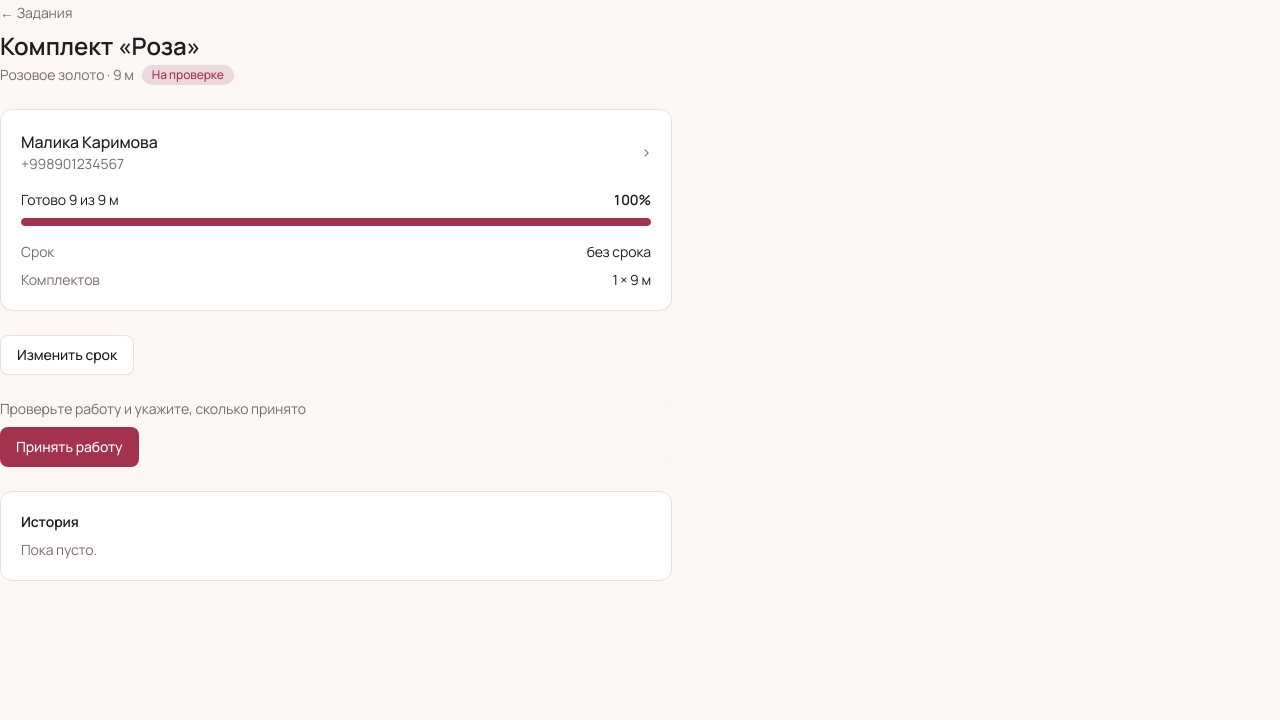
it: assignment detail (M3 §17): exactly one contextual action per status › UNDER_REVIEW opens the acceptance dialog with a live-valid submit button
The image size is (1280, 720).
What coordinates should you click on to do the following:
click the button "Принять работу"
I would click on:
 (69, 447)
Its box is [0,427,139,467].
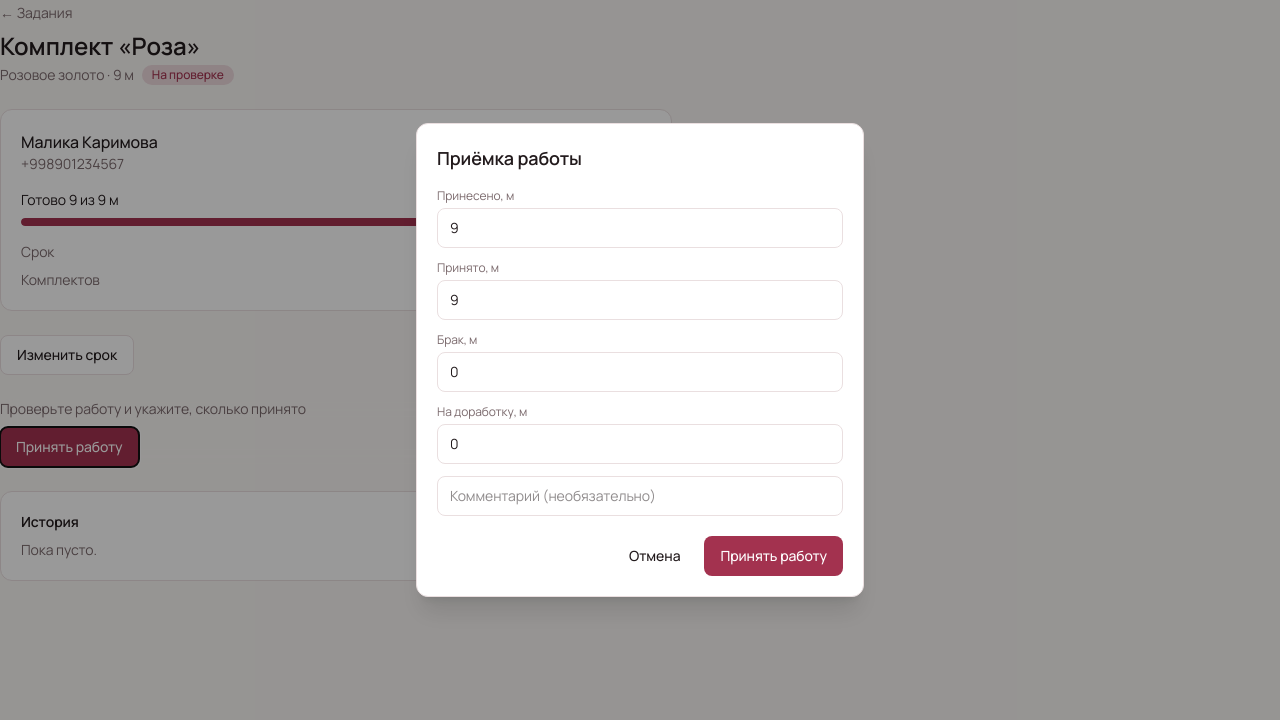
Now the heading "Приёмка работы" is shown, box [437,146,582,170]
Now the button "Принять работу" is enabled, box [704,536,843,576]
